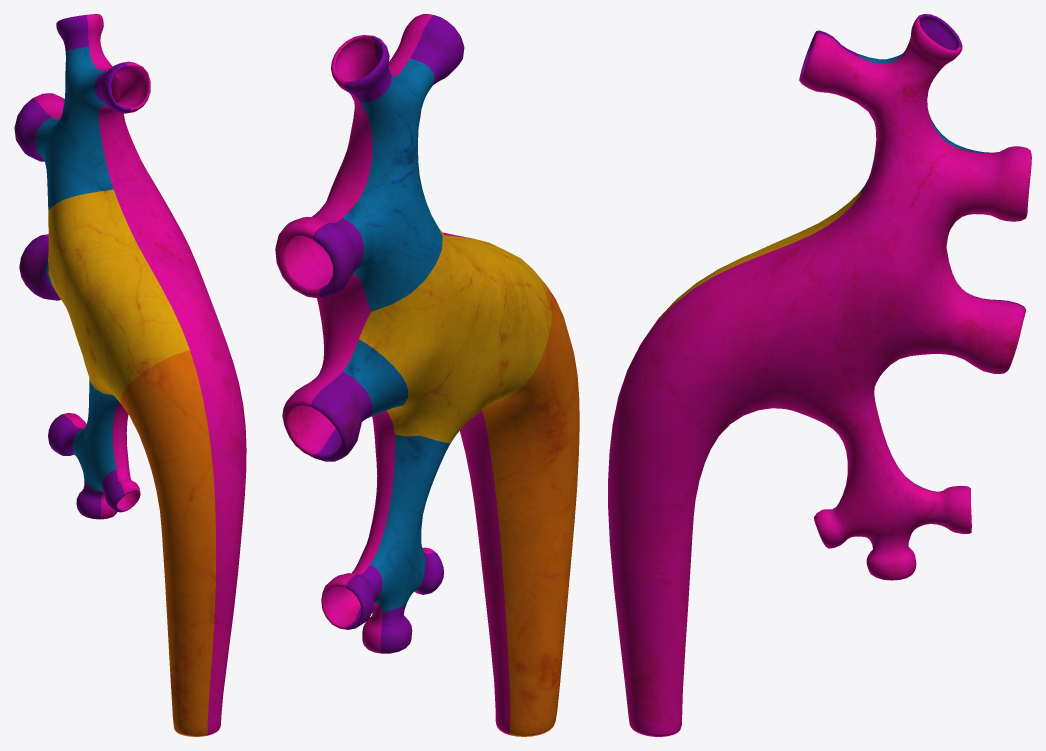
The model's file is Caliz_Corte.glb.
3 renders of one model, left to right at view 1: azimuth 30°, elevation 25°; view 2: azimuth 150°, elevation 25°; view 3: azimuth 270°, elevation 25°, orthographic. The views are drawn at different scales.
Visible parts, largest first — view 1: CALIZ_CORTE; view 2: CALIZ_CORTE; view 3: CALIZ_CORTE.
Part boxes in pixels (left/top/right/bottom): CALIZ_CORTE: left=14, top=14, right=246, bottom=736; CALIZ_CORTE: left=275, top=14, right=579, bottom=736; CALIZ_CORTE: left=608, top=14, right=1031, bottom=736.
Size of the model in its own units: 0.3907 by 2.09 by 1.13.
1 material, 1 textured.
